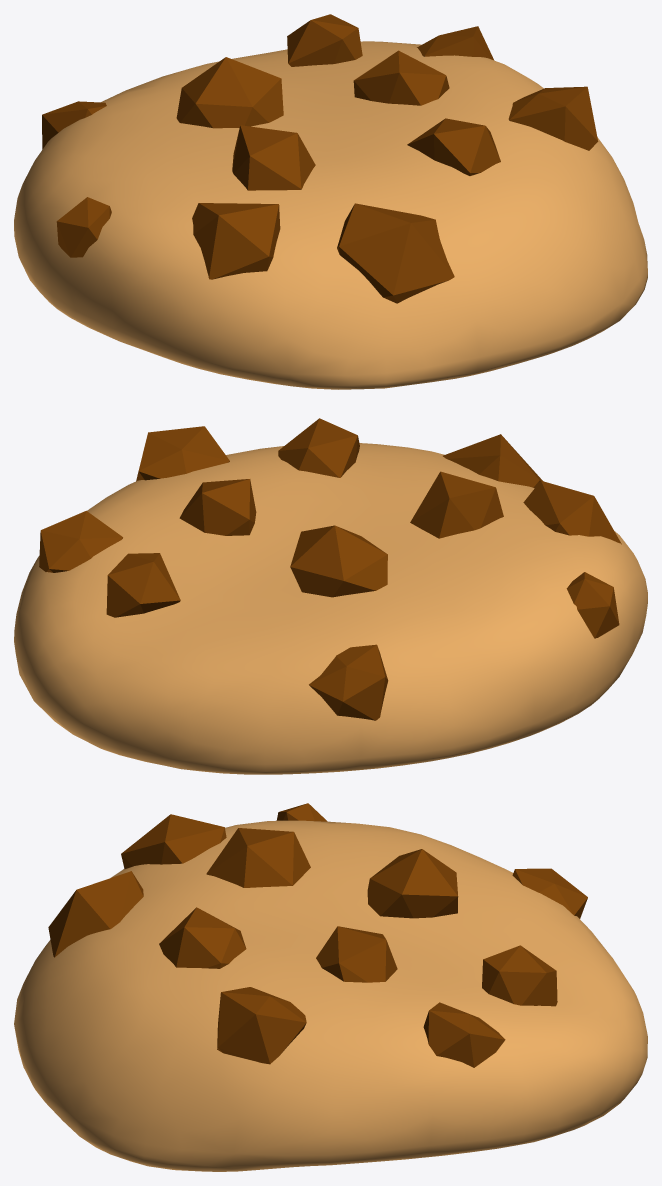
File: Quintus' cookie.fbx
The picture shows the model from 3 angles, top to bottom: view 1: azimuth 30°, elevation 25°; view 2: azimuth 150°, elevation 25°; view 3: azimuth 270°, elevation 25°; orthographic projection. The views are drawn at different scales.
Visible parts, largest first — view 1: Icosphere.006; view 2: Icosphere.006; view 3: Icosphere.006.
Part boxes in pixels (bbox=[...]): Icosphere.006: bbox=[14, 14, 647, 389]; Icosphere.006: bbox=[14, 418, 647, 774]; Icosphere.006: bbox=[14, 803, 647, 1171].
Size of the model in its own units: 337 by 118 by 347.
